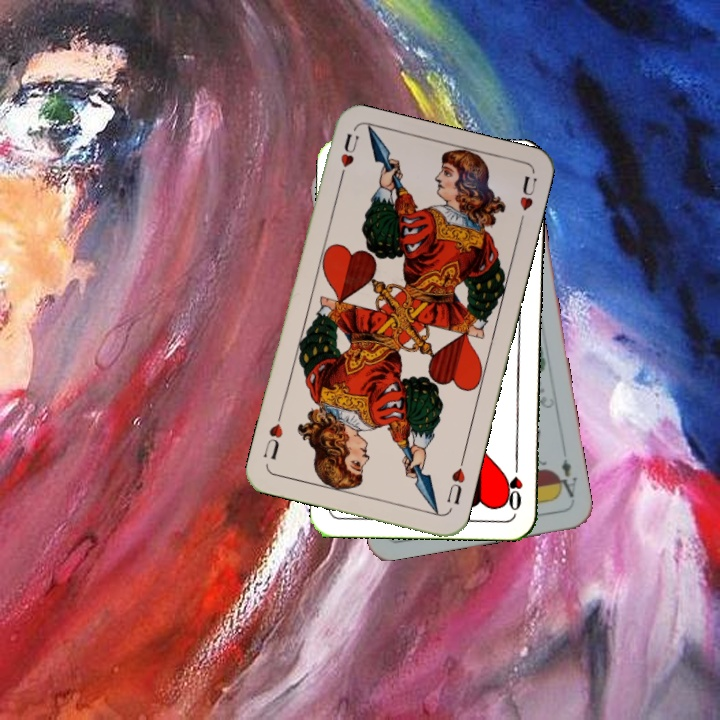EA: (551, 455, 580, 500)
HO: (503, 455, 526, 513)
HU: (334, 129, 361, 186), (442, 454, 468, 508)
